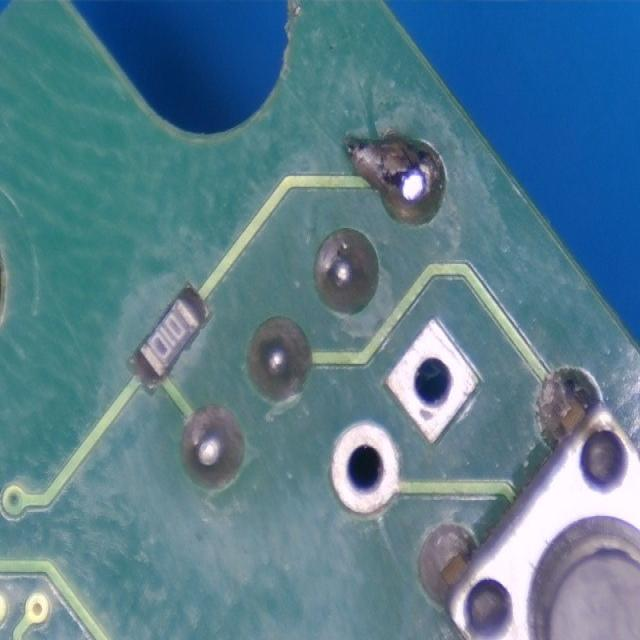Dry_joint: (343, 130, 447, 225)
